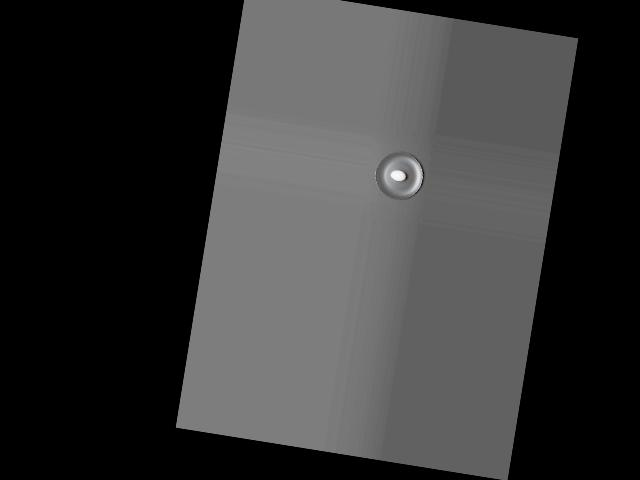egg: (390, 169, 406, 182)
